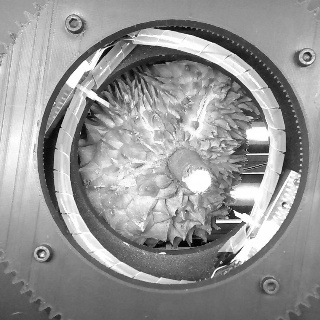base: (164, 145, 204, 189)
end: (185, 169, 213, 195)
